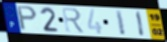2: (39, 6, 60, 33)
4: (87, 9, 104, 36)
I: (115, 10, 128, 37), (135, 10, 146, 38)
P: (16, 6, 39, 32)
R: (61, 7, 87, 35)
